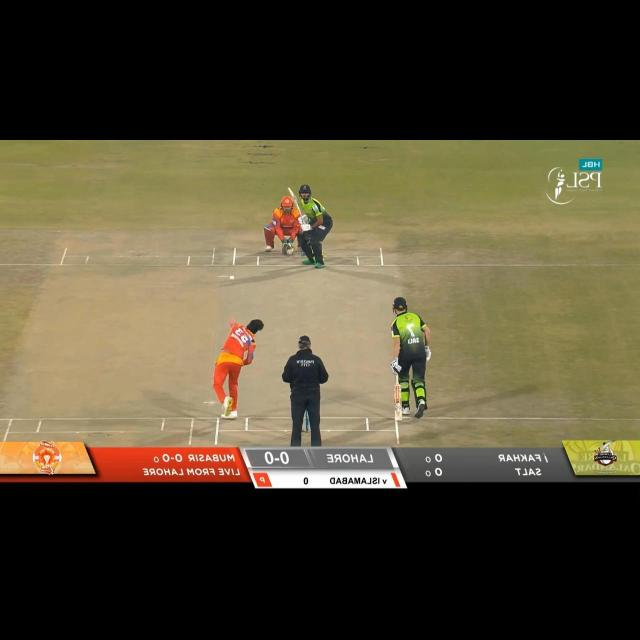bat: (287, 187, 304, 218), (391, 388, 404, 421)
toe: (391, 411, 404, 423), (287, 186, 294, 197)
